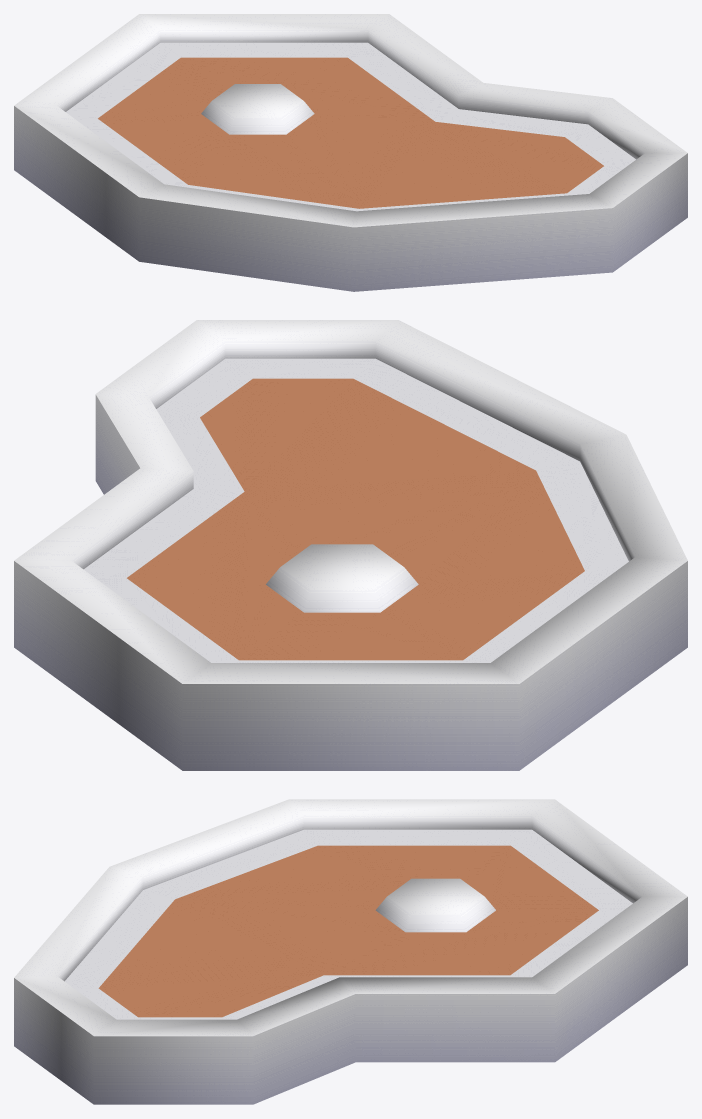
Rendered from meat-raw.glb.
The picture shows the model from 3 angles, top to bottom: view 1: azimuth 30°, elevation 25°; view 2: azimuth 150°, elevation 25°; view 3: azimuth 270°, elevation 25°; orthographic projection. The views are drawn at different scales.
Parts seen in each view (by area): view 1: meat-raw; view 2: meat-raw; view 3: meat-raw.
Boxes of the visible parts, box(x1,y1,x2,y2) form: meat-raw: box(14, 14, 687, 291); meat-raw: box(14, 320, 687, 770); meat-raw: box(14, 799, 687, 1104).
Size of the model in its own units: 0.4785 by 0.0645 by 0.5754.
1 material, 1 textured.
